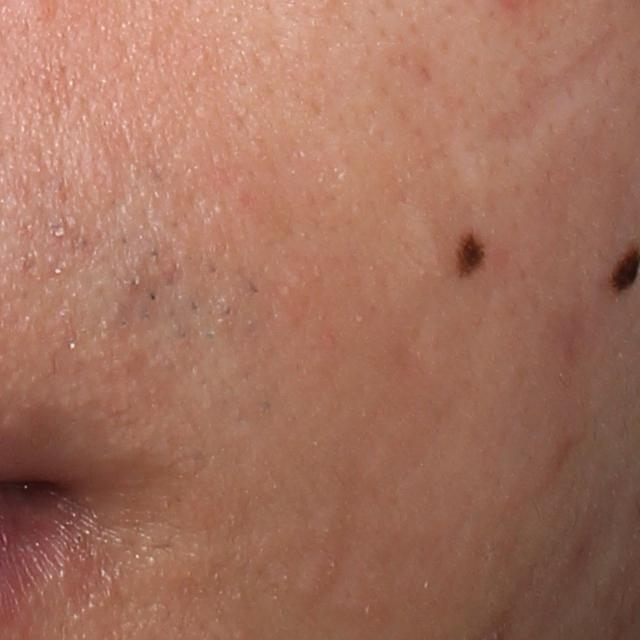atrophic_scar: (472, 29, 639, 164)
nevus: (455, 224, 494, 281)
other: (475, 19, 624, 148)
